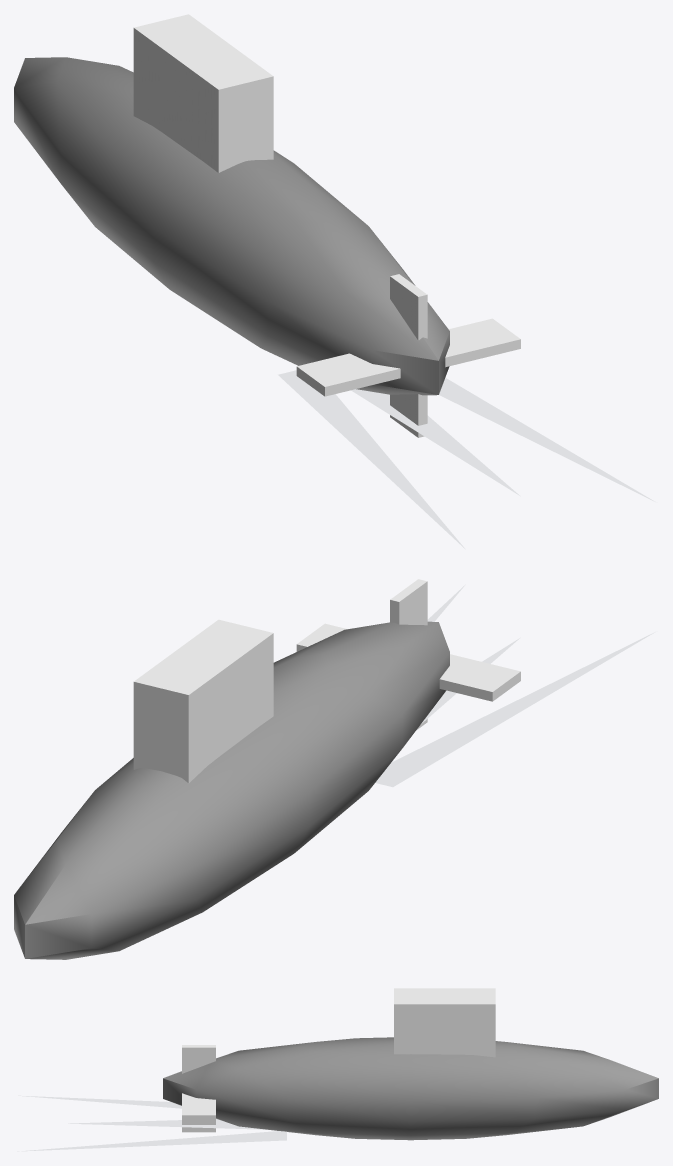
The model's file is sampan.glb.
3 renders of one model, top to bottom at view 1: azimuth 30°, elevation 25°; view 2: azimuth 150°, elevation 25°; view 3: azimuth 270°, elevation 25°, orthographic. The views are drawn at different scales.
Parts seen in each view (by area): view 1: Body, Wake; view 2: Body, Wake; view 3: Body, Wake.
Part boxes in pixels (x1,y1,x2,y2): Body: [14, 14, 520, 437]; Wake: [278, 370, 655, 549]; Body: [14, 579, 520, 959]; Wake: [375, 584, 655, 787]; Body: [163, 988, 658, 1140]; Wake: [17, 1095, 286, 1151].
Size of the model in its own units: 3.2 by 3.6 by 15.21.
Materials: 3 (1 with a texture image).
